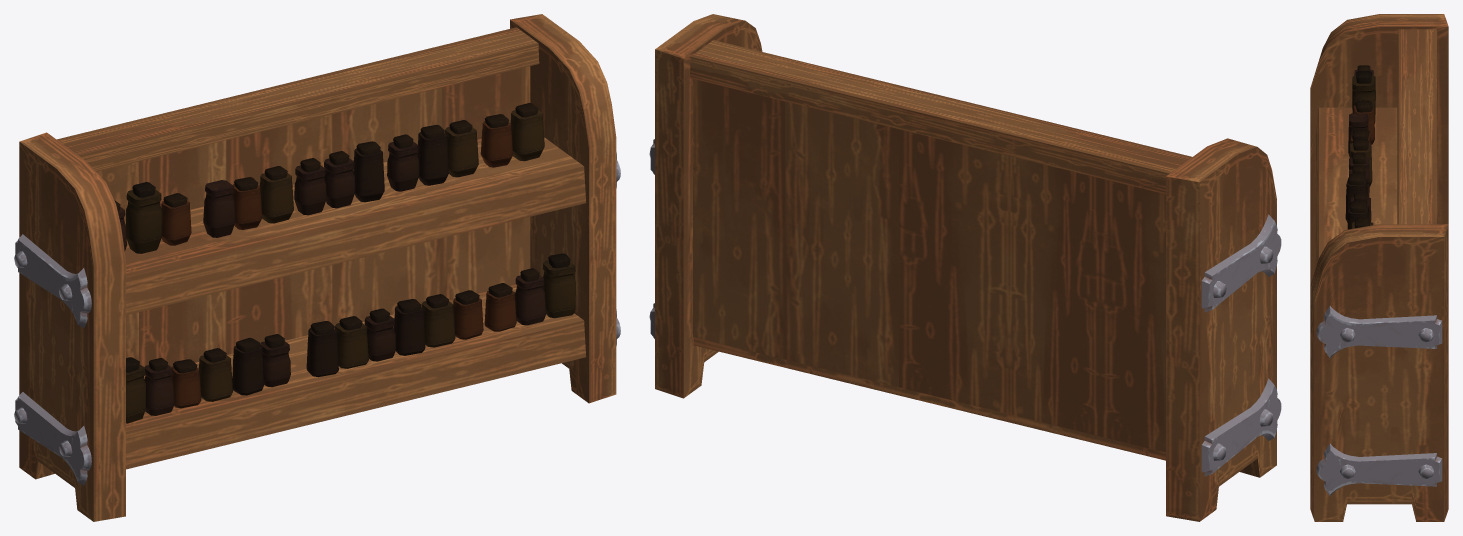
The model's file is Shelf_Small_Bottles.gltf.
3 renders of one model, left to right at view 1: azimuth 30°, elevation 25°; view 2: azimuth 150°, elevation 25°; view 3: azimuth 270°, elevation 25°, orthographic. The views are drawn at different scales.
Parts seen in each view (by area): view 1: Shelf_Small_Bottles; view 2: Shelf_Small_Bottles; view 3: Shelf_Small_Bottles.
Part boxes in pixels (x1=…): Shelf_Small_Bottles: x1=14, y1=14, x2=620, y2=521; Shelf_Small_Bottles: x1=649, y1=14, x2=1281, y2=521; Shelf_Small_Bottles: x1=1310, y1=14, x2=1448, y2=521.
Size of the model in its own units: 1.14 by 0.6474 by 0.2846.
3 materials, 3 textured.
